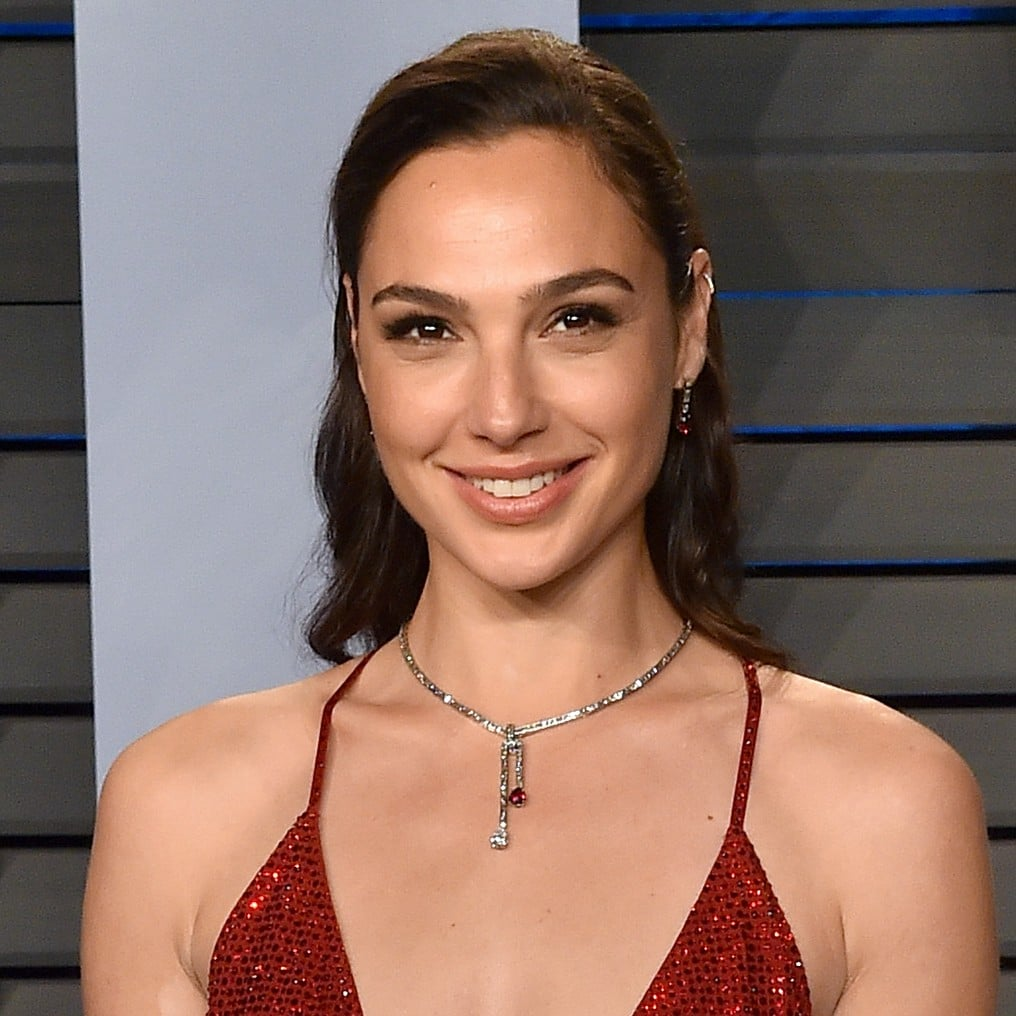person: (71, 36, 1001, 1016)
